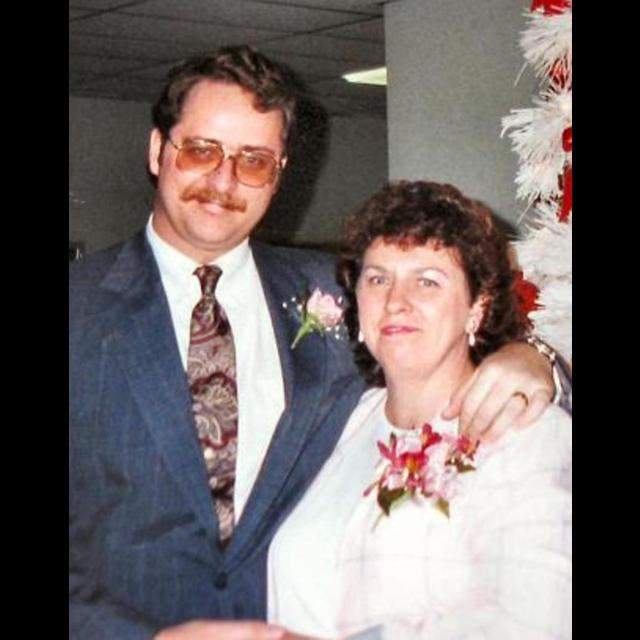Flower: (358, 418, 479, 520), (302, 292, 348, 336)
